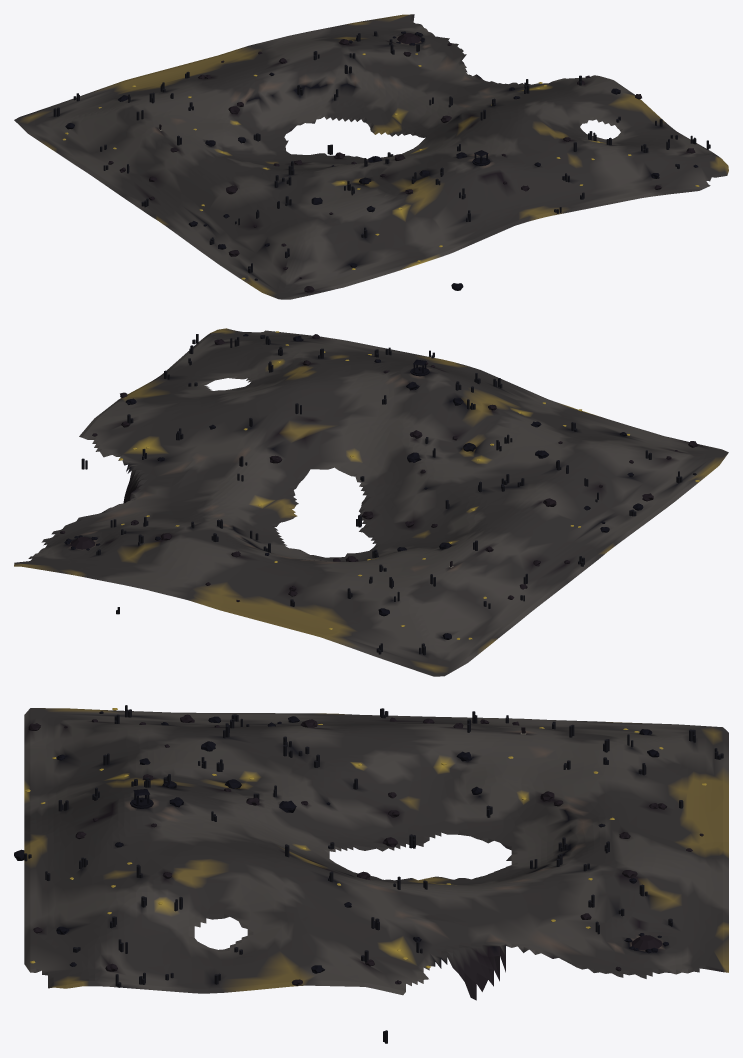
Rendered from ash_isl_obsidian_arch_lod1.glb.
The picture shows the model from 3 angles, top to bottom: view 1: azimuth 30°, elevation 25°; view 2: azimuth 150°, elevation 25°; view 3: azimuth 270°, elevation 25°; orthographic projection. The views are drawn at different scales.
Visible parts, largest first — view 1: geometry_0; view 2: geometry_0; view 3: geometry_0.
Boxes of the visible parts, <box> form: geometry_0: <box>14,14,728,299</box>; geometry_0: <box>14,328,728,676</box>; geometry_0: <box>14,705,728,1043</box>.
Size of the model in its own units: 242 by 42.97 by 244.
